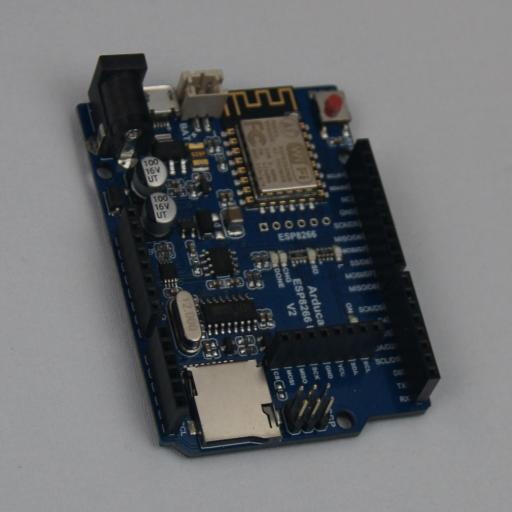Arduino Uno Camera Shield: (76, 54, 440, 458)
